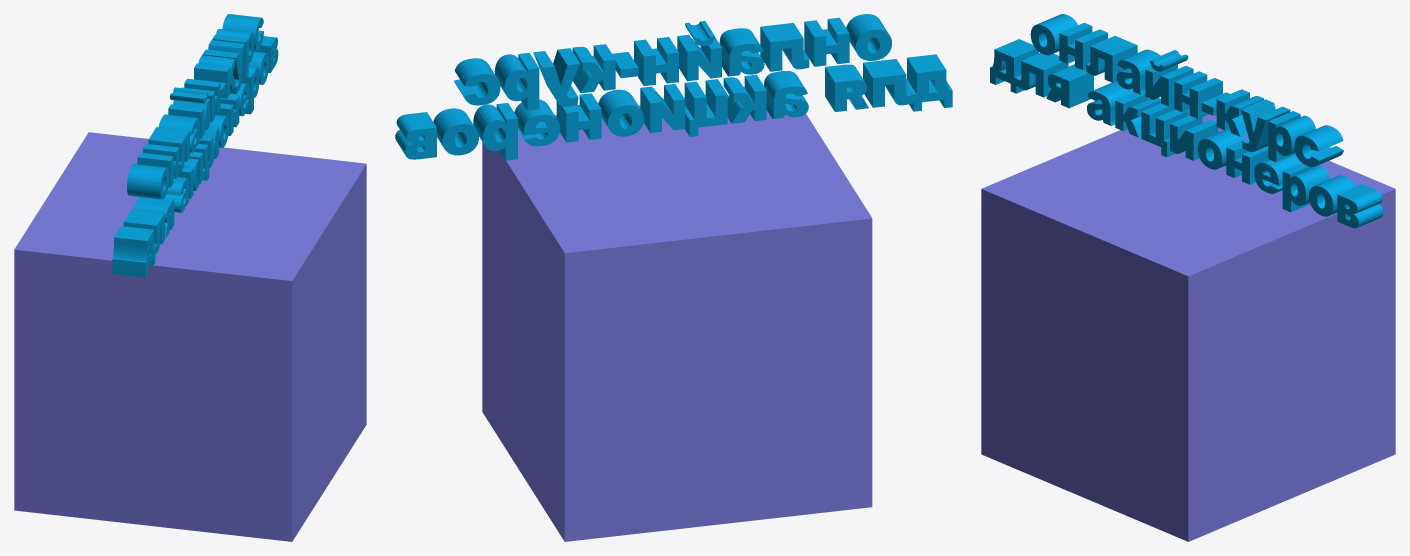
The picture shows the model from 3 angles, left to right: view 1: azimuth 30°, elevation 25°; view 2: azimuth 150°, elevation 25°; view 3: azimuth 270°, elevation 25°; orthographic projection. The views are drawn at different scales.
Parts seen in each view (by area): view 1: Cube.005, Text.001; view 2: Cube.005, Text.001; view 3: Cube.005, Text.001.
Part boxes in pixels (<box>): Cube.005: <box>14,132,366,541</box>; Text.001: <box>112,14,278,277</box>; Cube.005: <box>482,95,872,541</box>; Text.001: <box>395,14,952,160</box>; Cube.005: <box>981,109,1395,541</box>; Text.001: <box>990,14,1383,228</box>.
Bounding box in the file's own units: 2.83 × 2.94 × 2.83.
